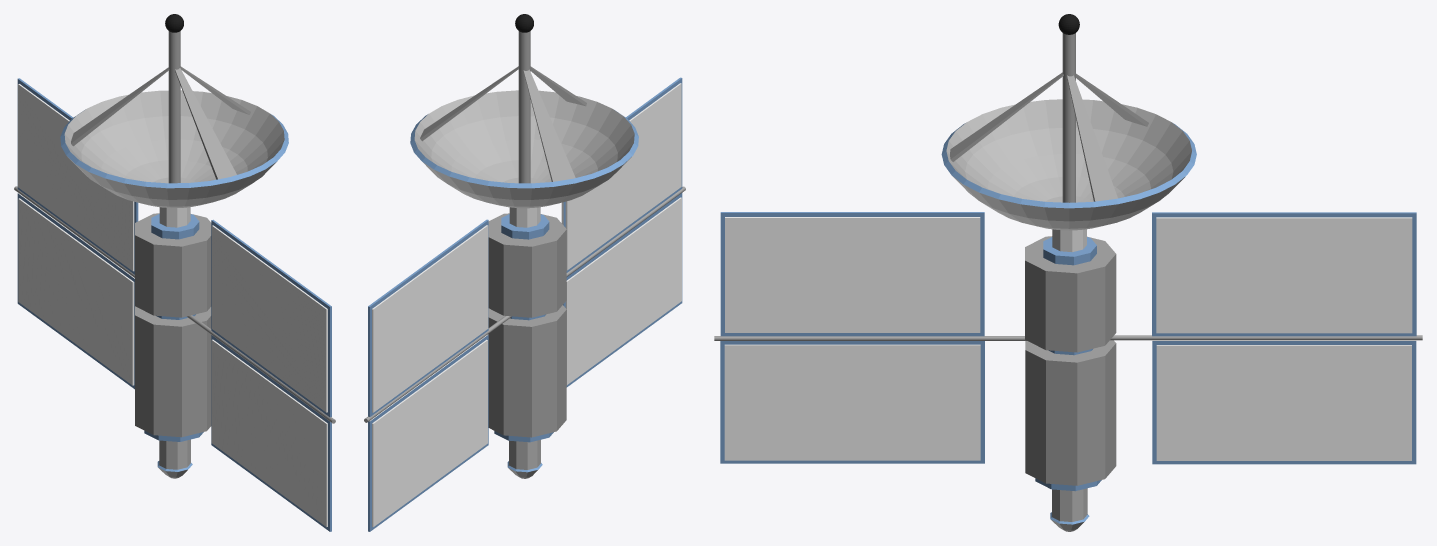
File: SATALITAS.gltf
3 renders of one model, left to right at view 1: azimuth 30°, elevation 25°; view 2: azimuth 150°, elevation 25°; view 3: azimuth 270°, elevation 25°, orthographic. The views are drawn at different scales.
Visible parts, largest first — view 1: SATALITE; view 2: SATALITE; view 3: SATALITE.
Part boxes in pixels (bbox=[...]): SATALITE: bbox=[14, 14, 335, 531]; SATALITE: bbox=[364, 14, 685, 531]; SATALITE: bbox=[714, 14, 1422, 531].
Bounding box in the file's own units: 1.66 × 3.7 × 4.62.
